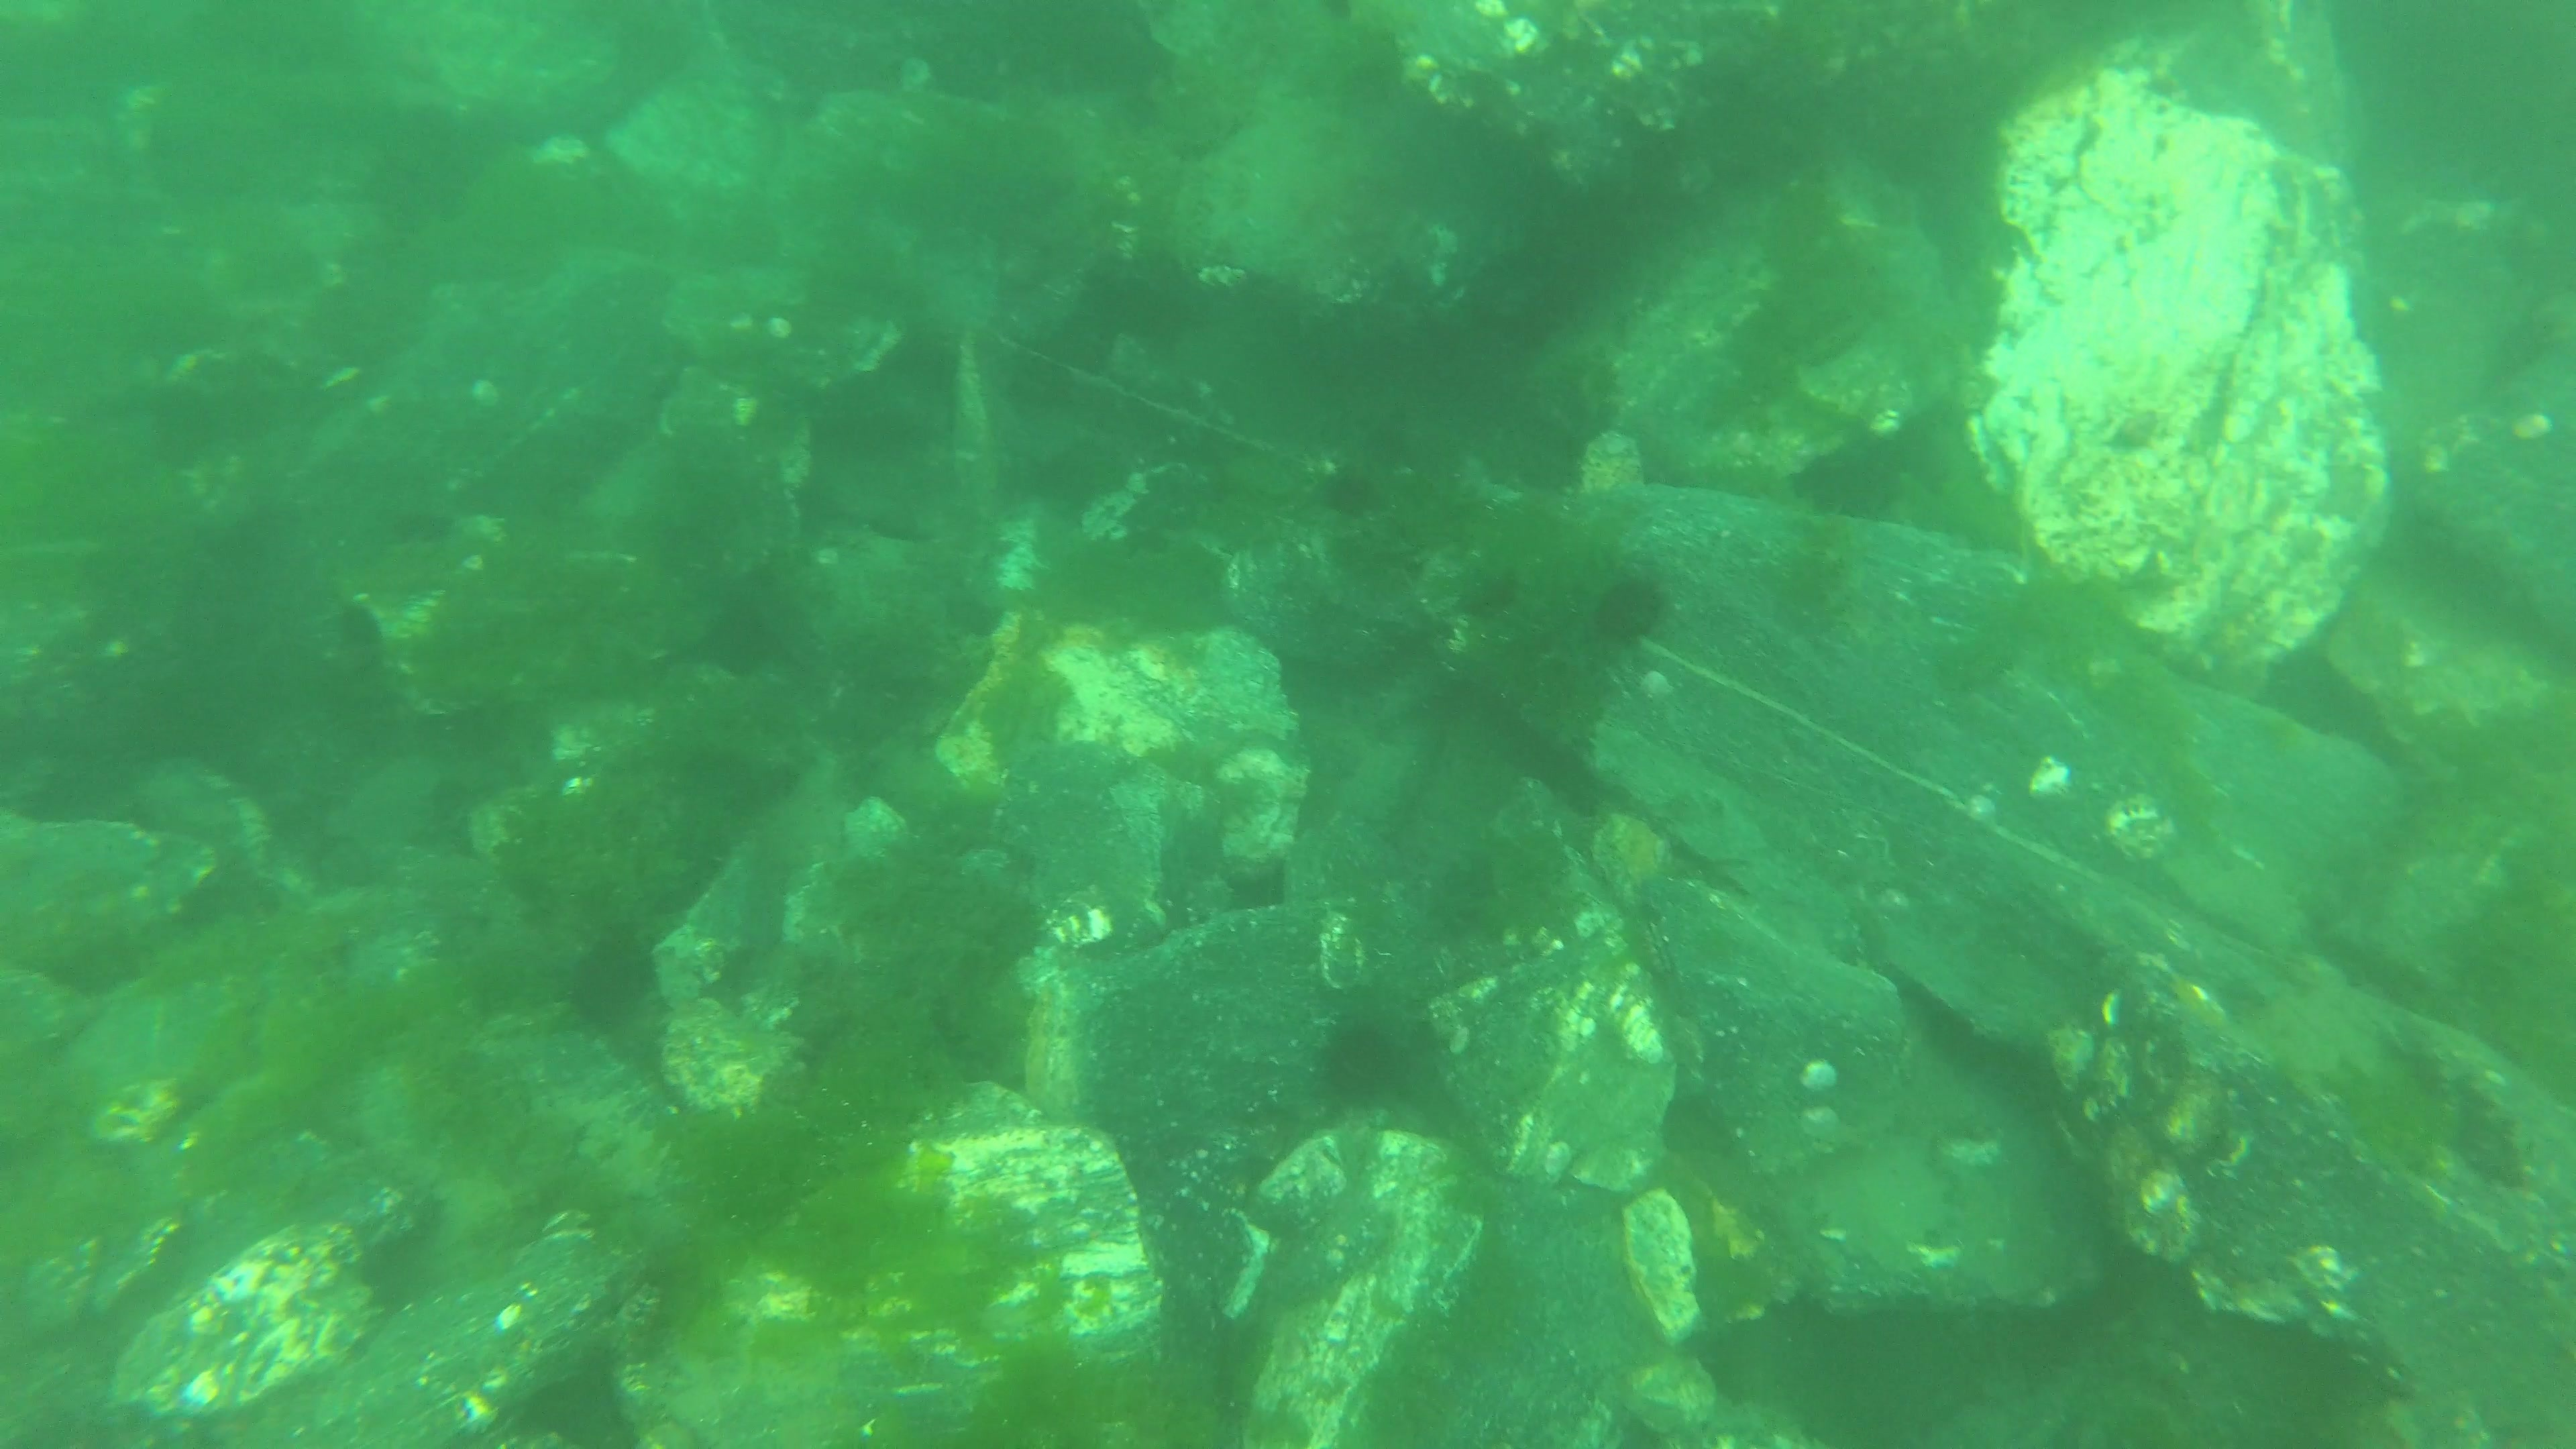echinus: (561, 939, 658, 1030), (1313, 1026, 1405, 1111), (1594, 580, 1654, 651), (1322, 462, 1380, 533)
